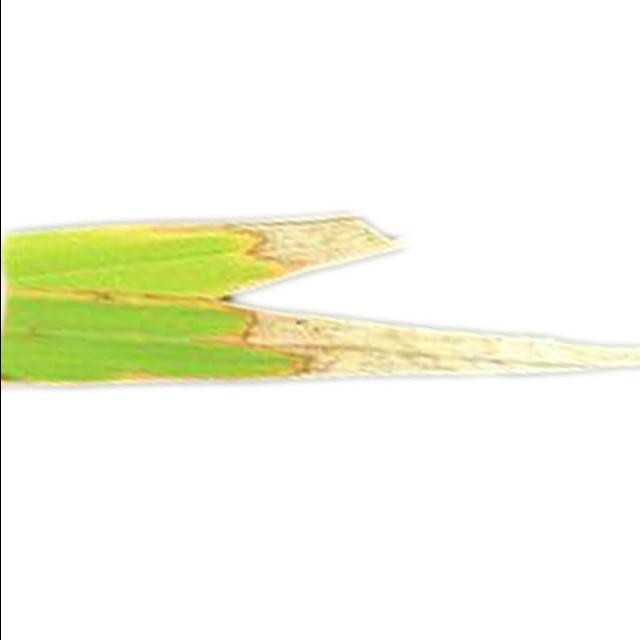Leaf scald: (0, 151, 640, 472)
